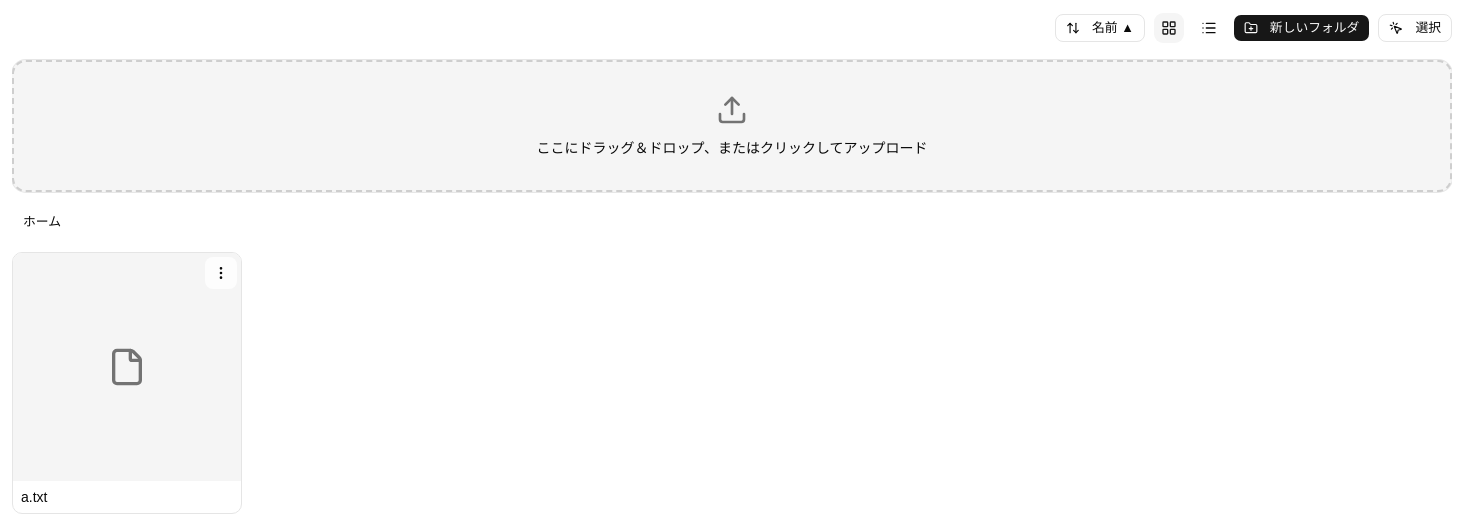
Test: FileBrowser › 複数選択・一括操作 › 選択解除ボタンで選択モードを終了する
This screenshot has width=1464, height=531.
Expected: the text "a.txt" is shown, [21, 489, 48, 505]
Click the button "選択".
click(1415, 28)  # box [1378, 14, 1452, 42]
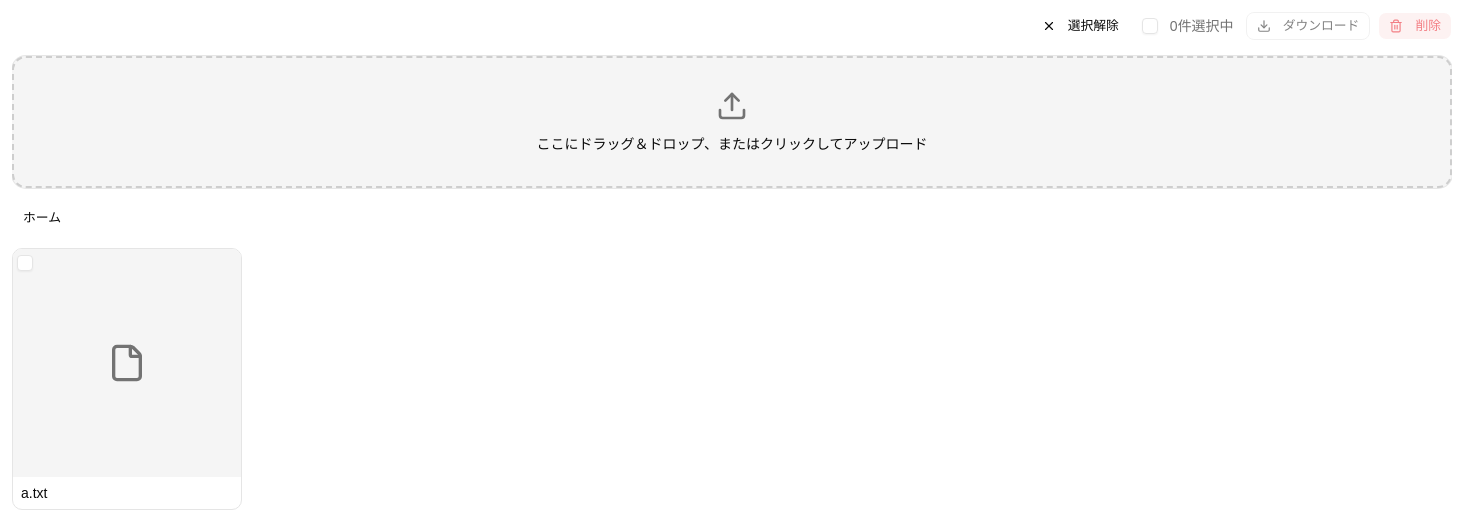
Click the button "選択解除".
click(1080, 26)  # box [1031, 12, 1130, 40]
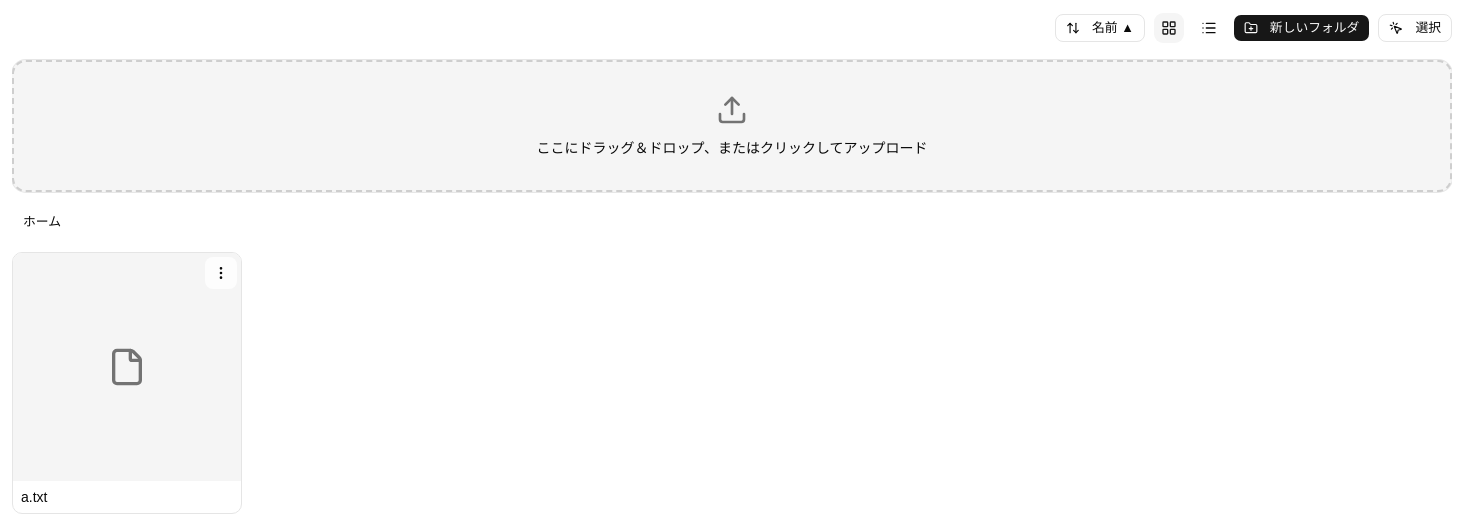
Expected: the button "選択" is shown, [1378, 14, 1452, 42]
Expected: the text "件選択中" is gone
